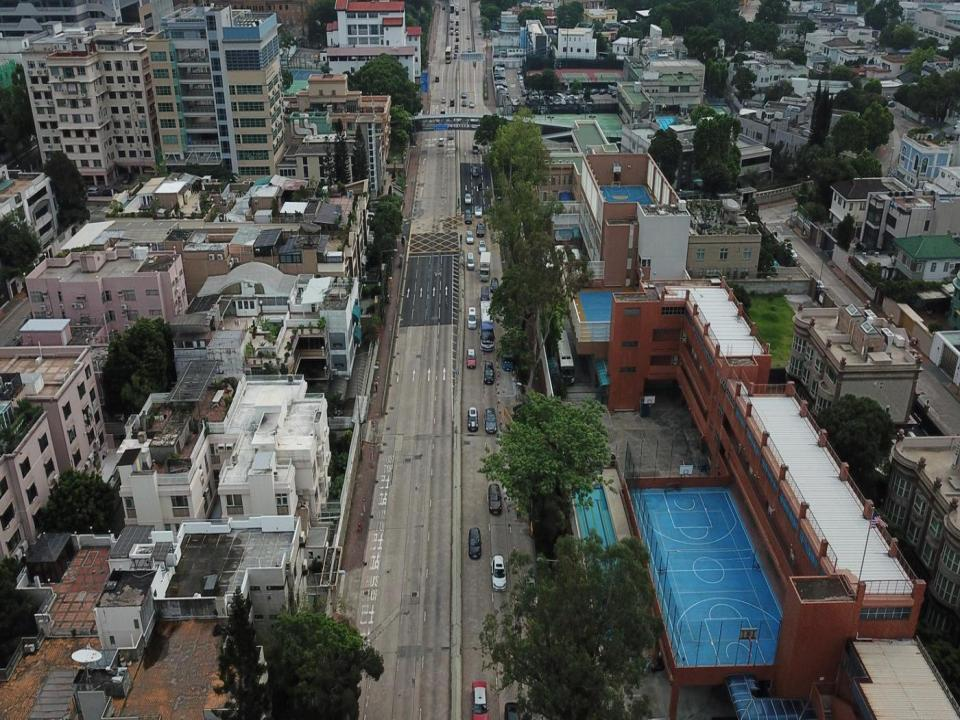bus: (554, 326, 574, 386), (479, 300, 496, 351), (445, 46, 453, 63)
car: (470, 680, 488, 719), (490, 556, 508, 590), (469, 525, 482, 561), (488, 484, 502, 514), (466, 406, 479, 432), (484, 407, 497, 433), (504, 702, 522, 719), (484, 361, 494, 385), (785, 244, 799, 259), (465, 348, 476, 367), (490, 276, 499, 293), (466, 229, 476, 242), (476, 222, 484, 238), (474, 204, 482, 218), (478, 240, 486, 253), (464, 192, 472, 204), (472, 165, 479, 178), (815, 276, 822, 288), (438, 137, 444, 146), (469, 100, 475, 108), (448, 132, 454, 140), (440, 97, 446, 105), (463, 99, 467, 107), (462, 91, 466, 98)
truck: (500, 332, 513, 372), (479, 252, 491, 282)
van: (479, 286, 490, 308), (467, 307, 477, 330), (464, 209, 472, 224), (467, 252, 474, 269), (472, 140, 478, 154), (512, 98, 520, 108), (435, 74, 439, 84), (450, 98, 454, 107)
